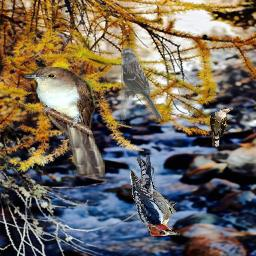Cuckoo: (25, 65, 106, 177), (209, 107, 233, 147)
Sparrow: (122, 46, 163, 120)
Woodpecker: (130, 154, 180, 237)
